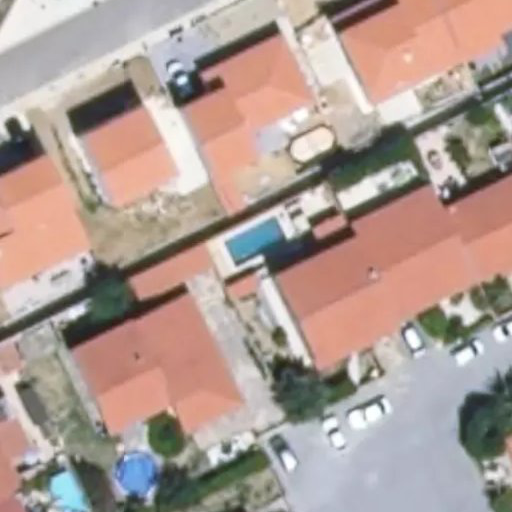pool: (222, 241, 289, 243)
